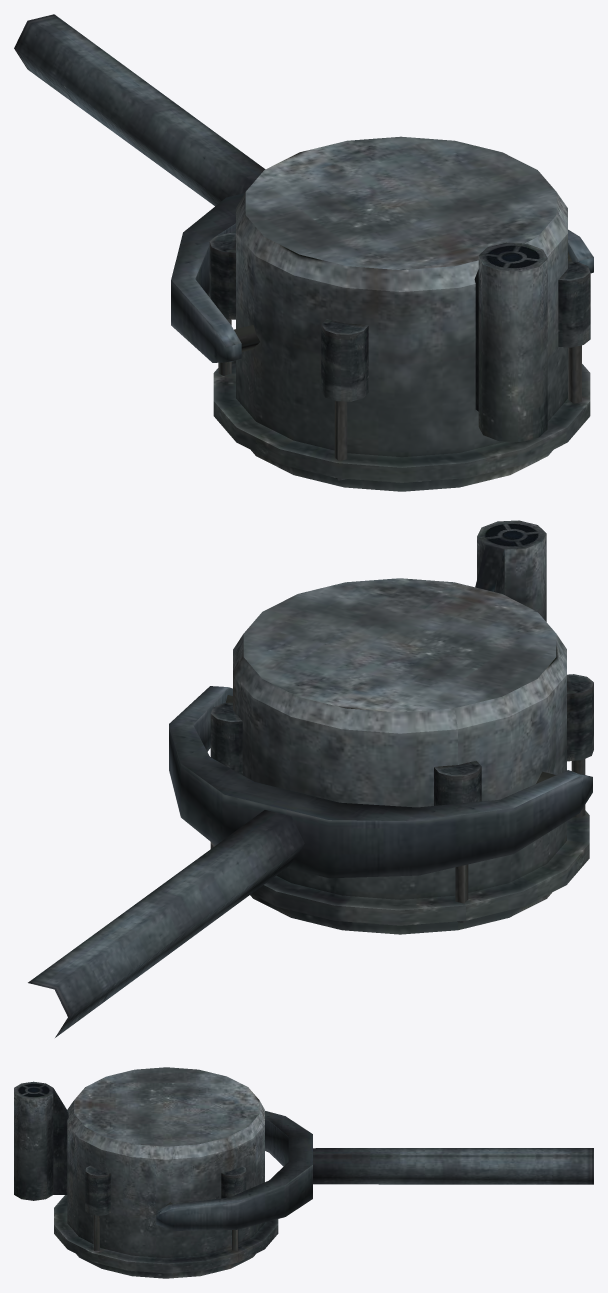
File: light_signallight_off.glb
3 views of the same model, one above another, from view 1: azimuth 30°, elevation 25°; view 2: azimuth 150°, elevation 25°; view 3: azimuth 270°, elevation 25° (orthographic). The views are drawn at different scales.
Size of the model in its own units: 18.81 by 11.96 by 43.11.
Materials: 2 (2 with a texture image).
